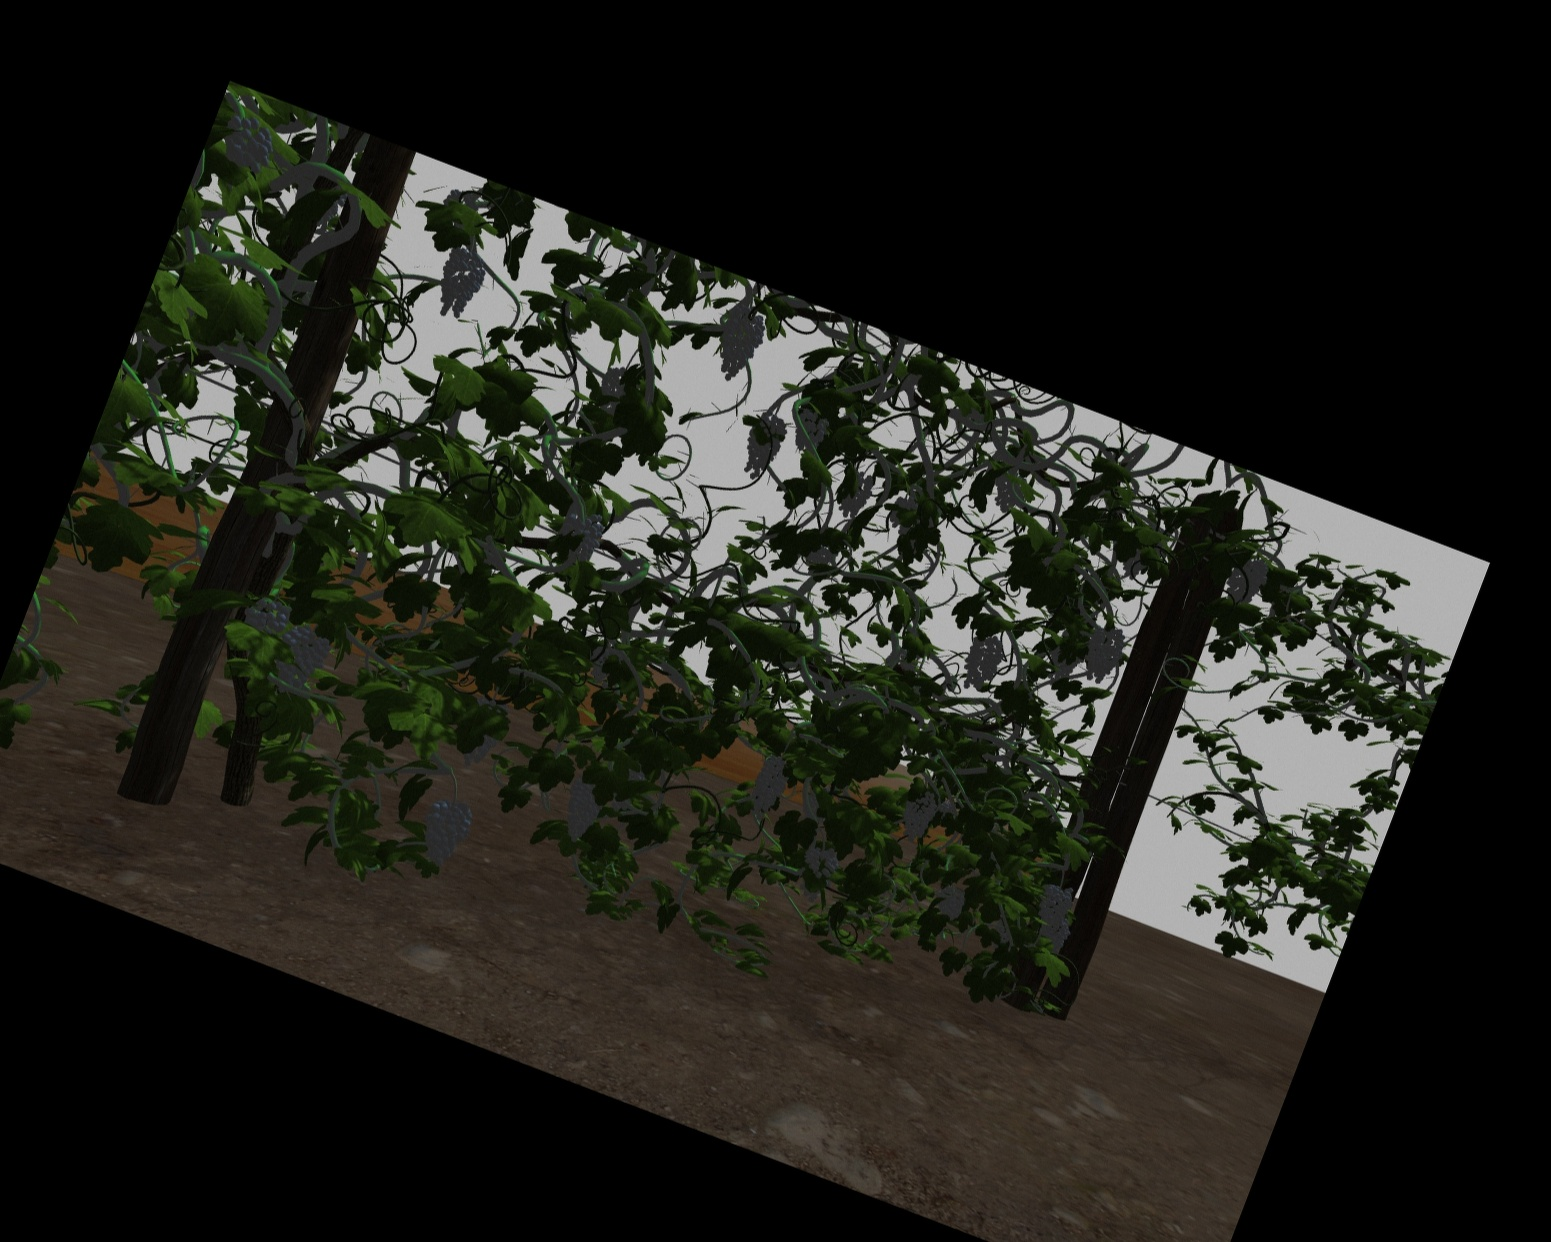grape: (717, 307, 758, 379), (422, 798, 466, 863), (438, 253, 480, 318), (563, 776, 603, 842), (744, 413, 781, 482), (556, 512, 599, 570), (281, 629, 327, 681), (223, 118, 272, 165), (1085, 626, 1123, 681), (1227, 555, 1267, 606), (751, 755, 786, 814), (964, 632, 999, 689), (898, 790, 934, 840), (245, 598, 290, 631), (791, 411, 825, 454), (840, 471, 871, 518), (993, 470, 1026, 511), (1039, 885, 1069, 926), (803, 847, 839, 878), (935, 885, 966, 916), (1039, 923, 1069, 951)
